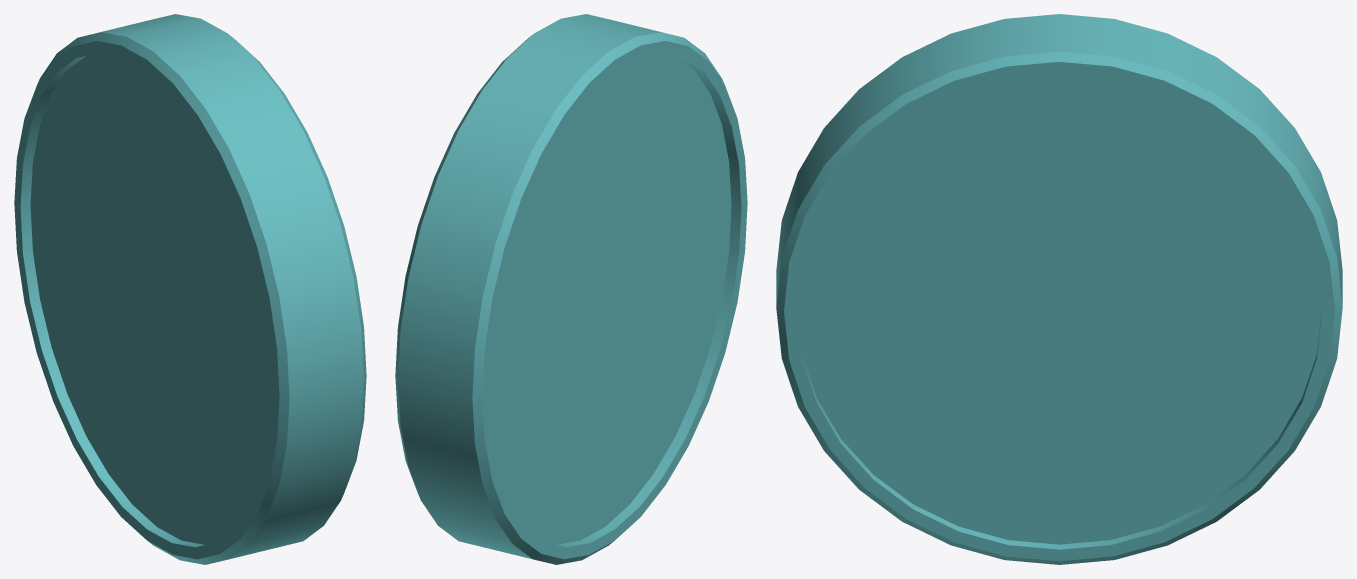
The model's file is Coin.fbx.
3 renders of one model, left to right at view 1: azimuth 30°, elevation 25°; view 2: azimuth 150°, elevation 25°; view 3: azimuth 270°, elevation 25°, orthographic. The views are drawn at different scales.
Visible parts, largest first — view 1: Coin0.002; view 2: Coin0.002; view 3: Coin0.002.
Boxes of the visible parts, bbox=[...] form: Coin0.002: bbox=[14, 14, 366, 564]; Coin0.002: bbox=[395, 14, 747, 564]; Coin0.002: bbox=[776, 14, 1342, 564].
Bounding box in the file's own units: 1.25 × 6.77 × 6.77.
Materials: 1 (1 with a texture image).
